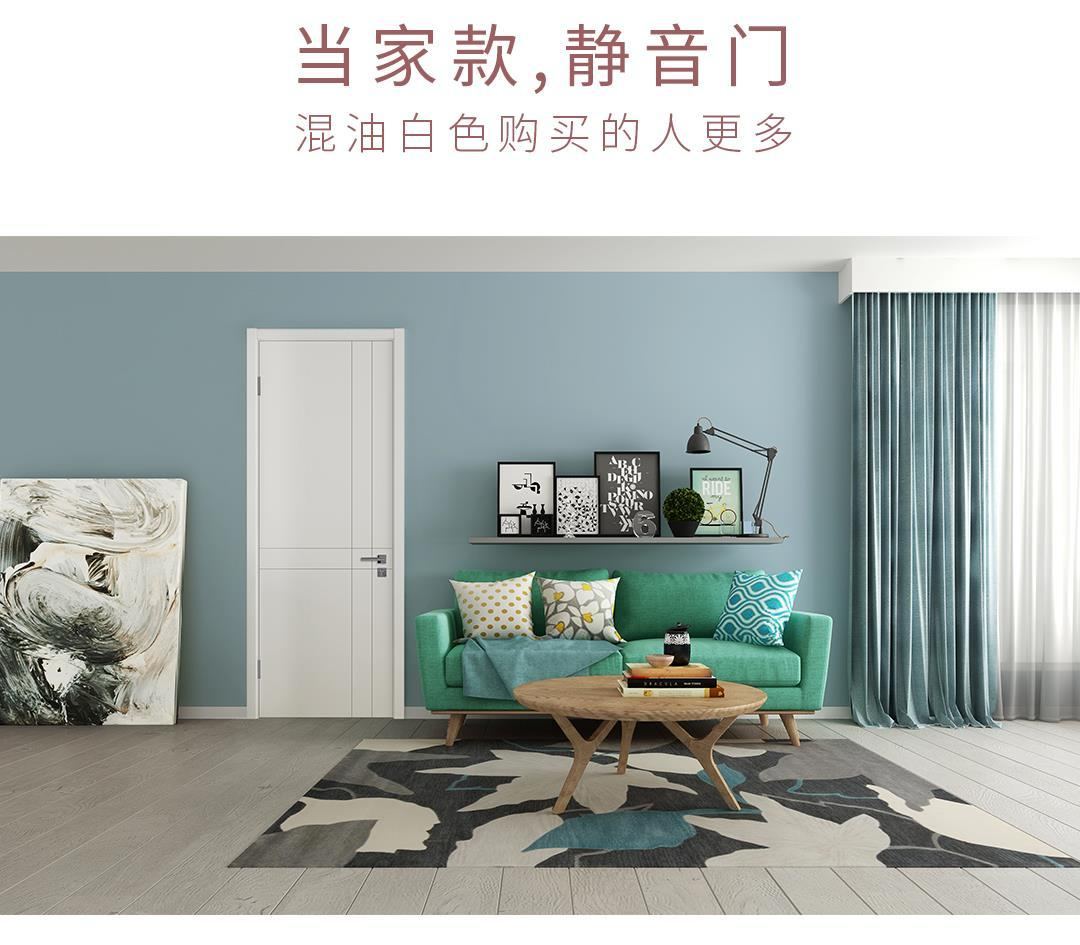door: (254, 328, 405, 724)
